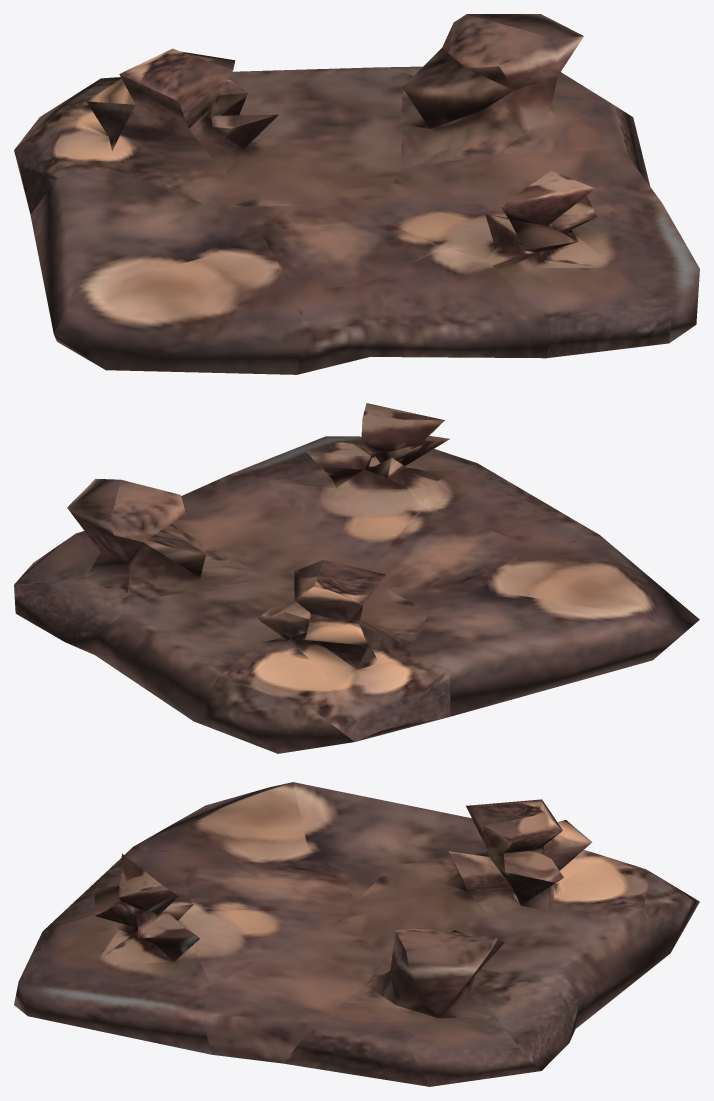
File: MushroomPlot_lod.glb
3 views of the same model, one above another, from view 1: azimuth 30°, elevation 25°; view 2: azimuth 150°, elevation 25°; view 3: azimuth 270°, elevation 25° (orthographic). The views are drawn at different scales.
Visible parts, largest first — view 1: MushroomPlot; view 2: MushroomPlot; view 3: MushroomPlot.
Boxes of the visible parts, left/top/right/bottom form: MushroomPlot: left=14, top=14, right=699, bottom=374; MushroomPlot: left=14, top=403, right=699, bottom=753; MushroomPlot: left=14, top=782, right=699, bottom=1086.
Size of the model in its own units: 0.9831 by 0.1818 by 0.9888.
1 material, 1 textured.
